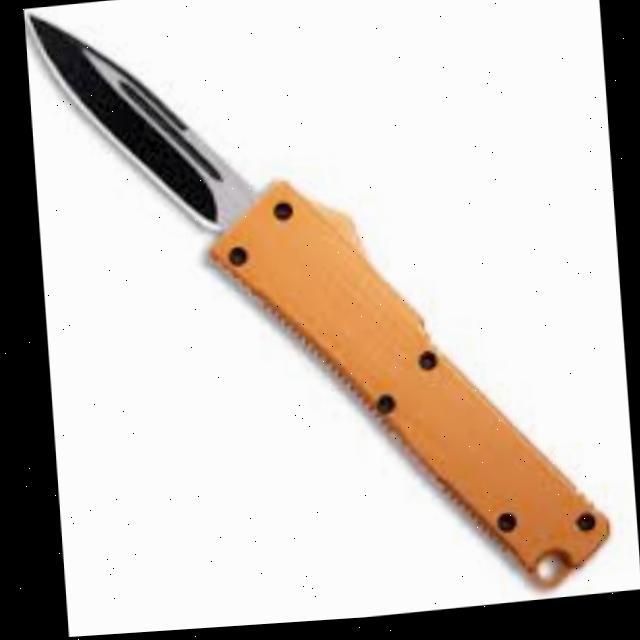knife: (22, 0, 608, 637)
